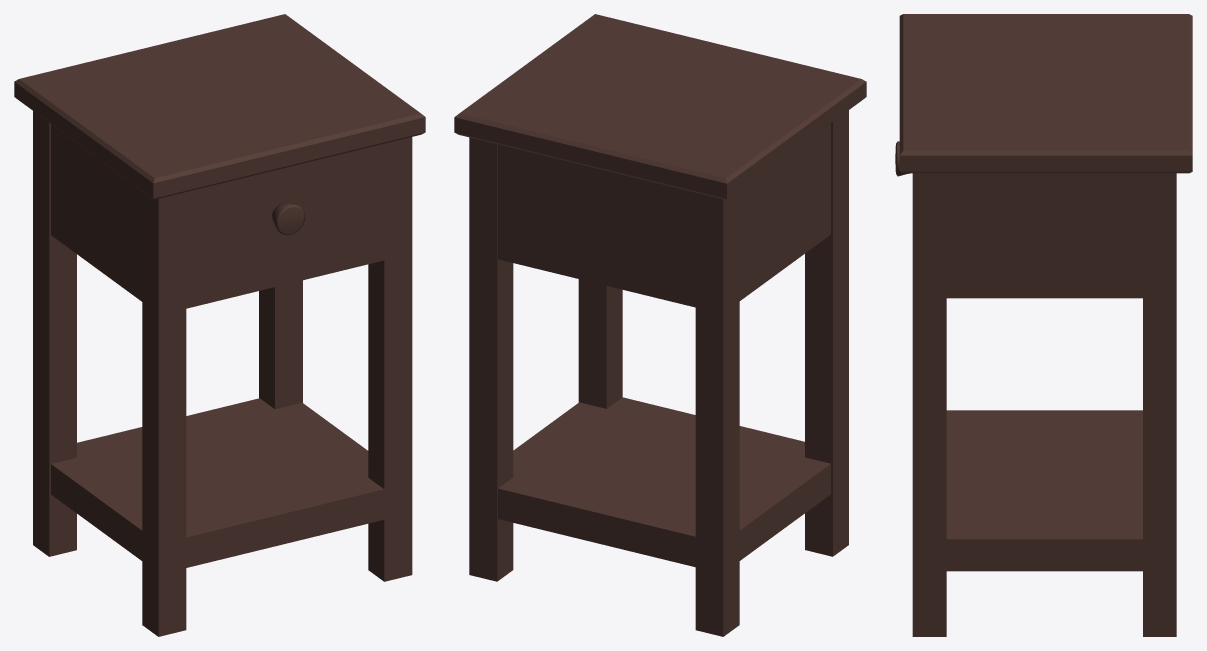
The model's file is nightstand.fbx.
3 renders of one model, left to right at view 1: azimuth 30°, elevation 25°; view 2: azimuth 150°, elevation 25°; view 3: azimuth 270°, elevation 25°, orthographic. The views are drawn at different scales.
Visible parts, largest first — view 1: nightstand; view 2: nightstand; view 3: nightstand.
Part boxes in pixels (x1,y1,x2,y2): nightstand: (14, 14, 425, 636); nightstand: (454, 14, 866, 636); nightstand: (895, 14, 1192, 636).
Bounding box in the file's own units: 2.34 × 3.81 × 2.1.
